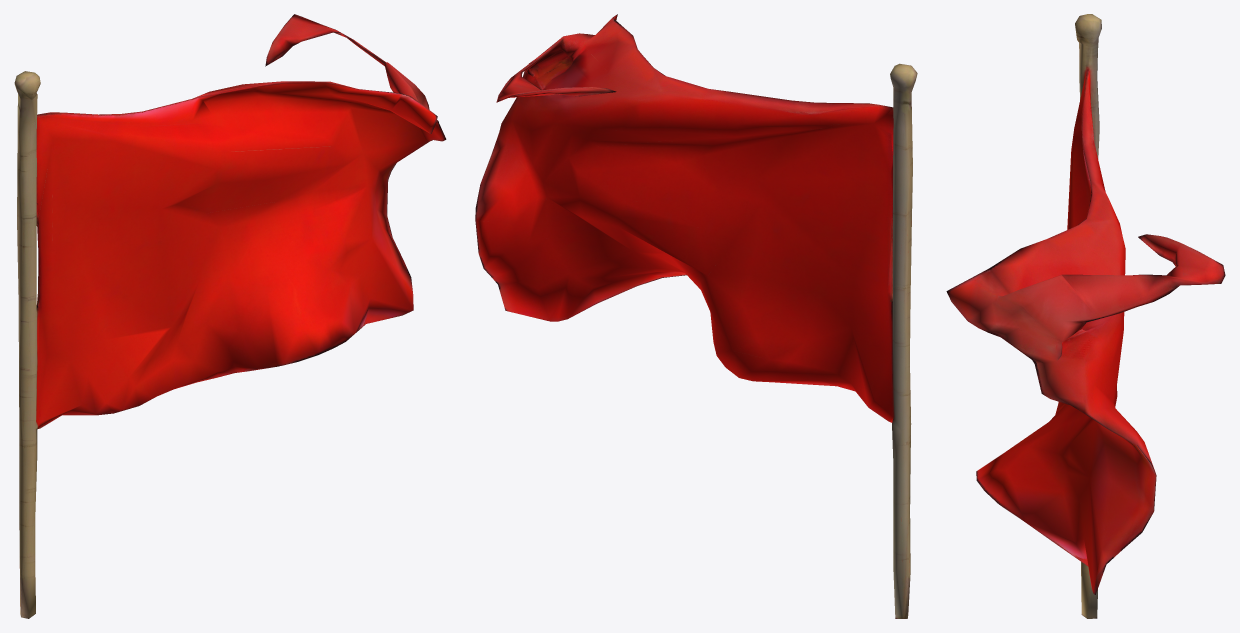
The model's file is RevFlag.glb.
The picture shows the model from 3 angles, left to right: view 1: azimuth 30°, elevation 25°; view 2: azimuth 150°, elevation 25°; view 3: azimuth 270°, elevation 25°; orthographic projection. The views are drawn at different scales.
Size of the model in its own units: 1.59 by 2 by 0.843.
Materials: 1 (1 with a texture image).
